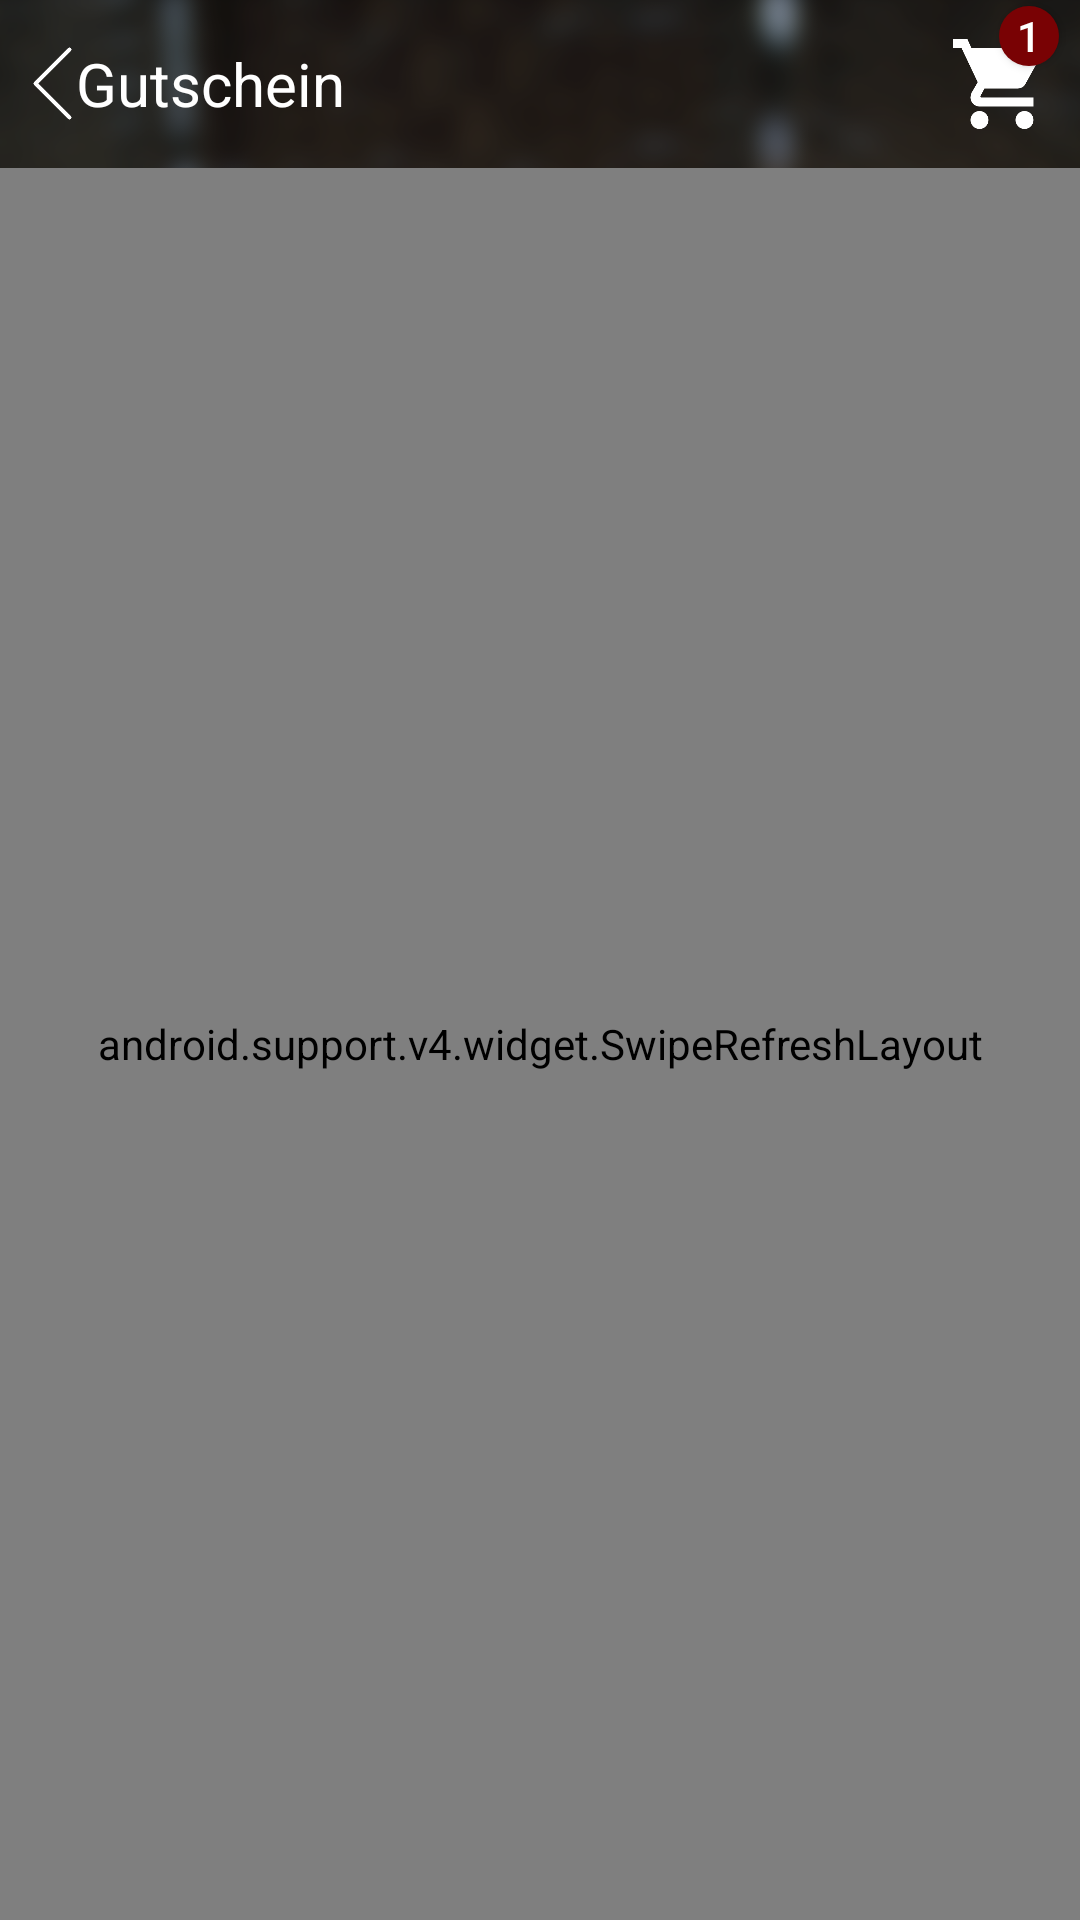

Where to tap for icons on this 1080px×1920px app screen, as point (x, y):
cart: point (1001, 84)
